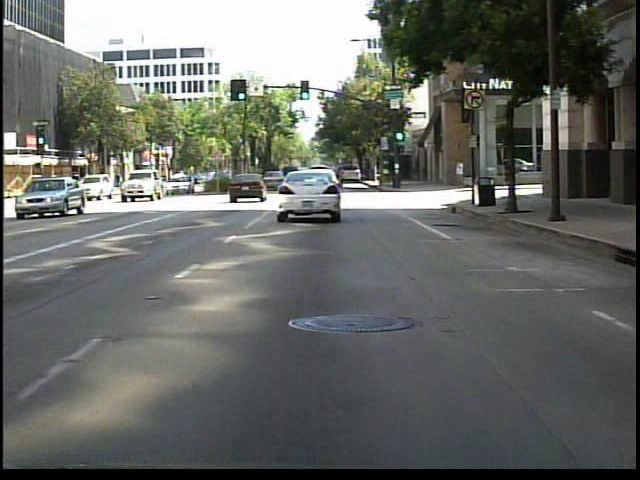person: (451, 155, 468, 194)
